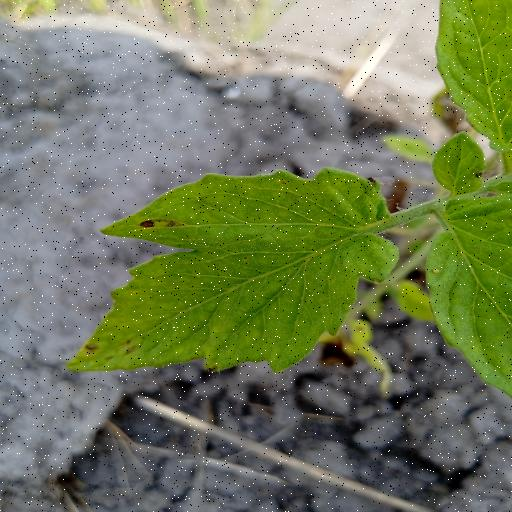Tomato_Brown_Spots: (69, 163, 398, 380)
